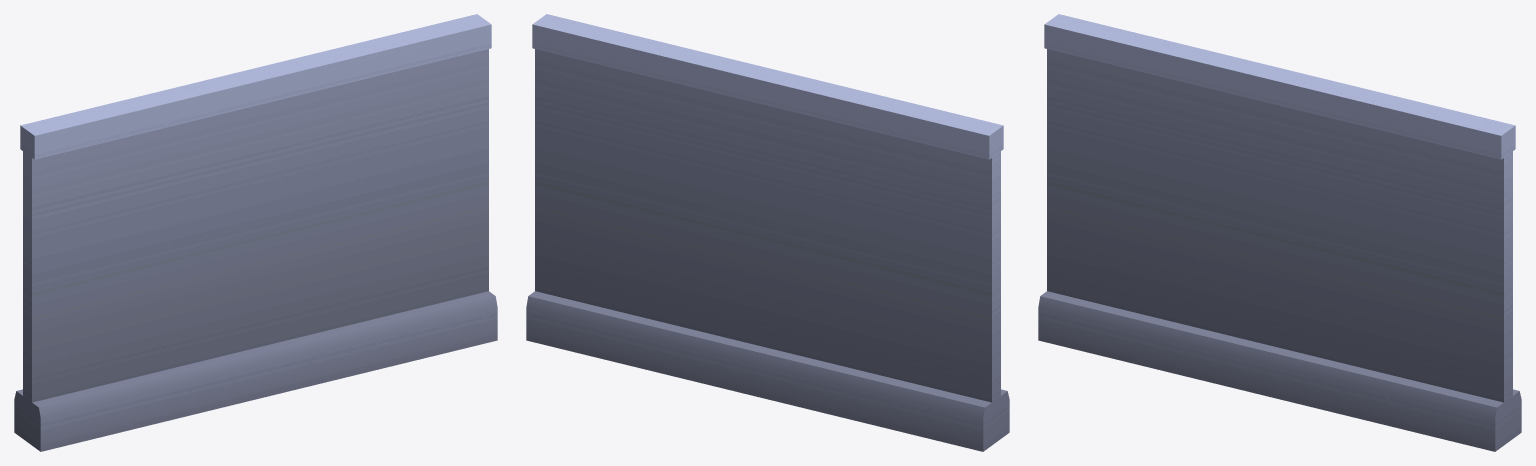
File: stone-wall.glb
The picture shows the model from 3 angles, left to right: view 1: azimuth 30°, elevation 25°; view 2: azimuth 150°, elevation 25°; view 3: azimuth 330°, elevation 25°; orthographic projection.
Visible parts, largest first — view 1: stone-wall; view 2: stone-wall; view 3: stone-wall.
Boxes of the visible parts, box(x1,y1,x2,y2) form: stone-wall: box(14, 14, 497, 451); stone-wall: box(526, 14, 1009, 451); stone-wall: box(1038, 14, 1521, 451).
Size of the model in its own units: 1 by 0.6519 by 0.1.
Materials: 1 (1 with a texture image).
